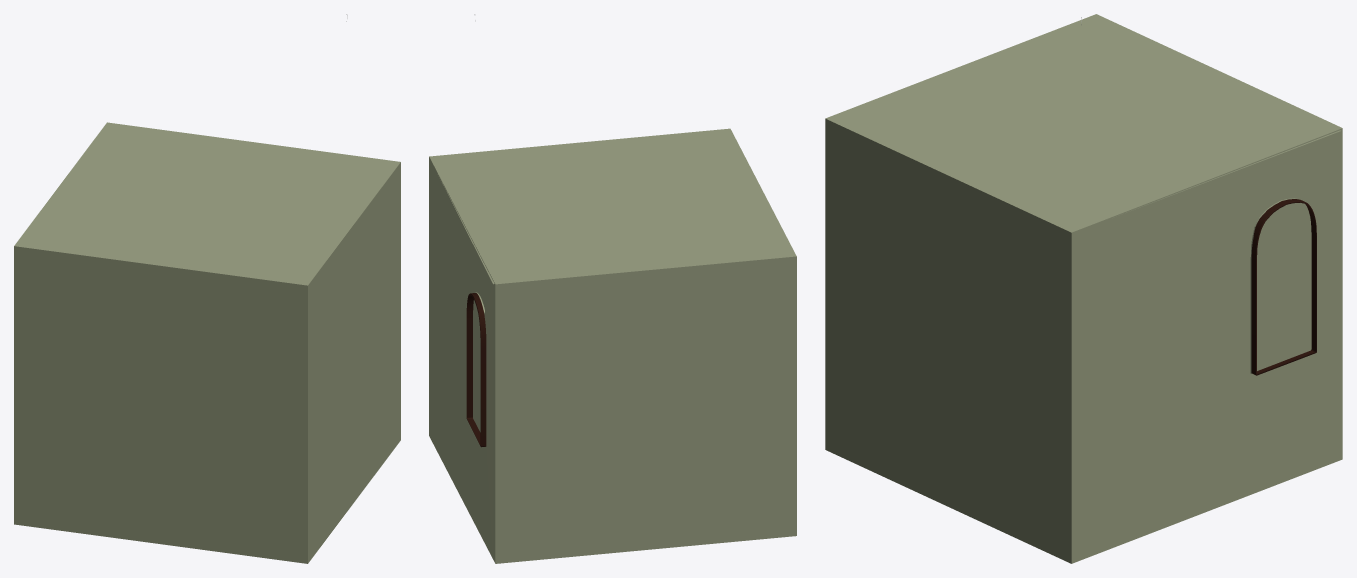
The model's file is myRoom.glb.
3 renders of one model, left to right at view 1: azimuth 30°, elevation 25°; view 2: azimuth 150°, elevation 25°; view 3: azimuth 270°, elevation 25°, orthographic. The views are drawn at different scales.
Parts seen in each view (by area): view 1: loadcube; view 2: loadcube, Window, Room; view 3: loadcube, Room, Window.
Part boxes in pixels (x1=…): loadcube: x1=14, y1=122, x2=400, y2=563; loadcube: x1=429, y1=128, x2=796, y2=563; Window: x1=466, y1=293, x2=486, y2=447; Room: x1=442, y1=183, x2=494, y2=555; loadcube: x1=825, y1=14, x2=1342, y2=563; Room: x1=1126, y1=130, x2=1341, y2=457; Window: x1=1251, y1=199, x2=1316, y2=375.
Size of the model in its own units: 3.05 by 3.36 by 3.05.
